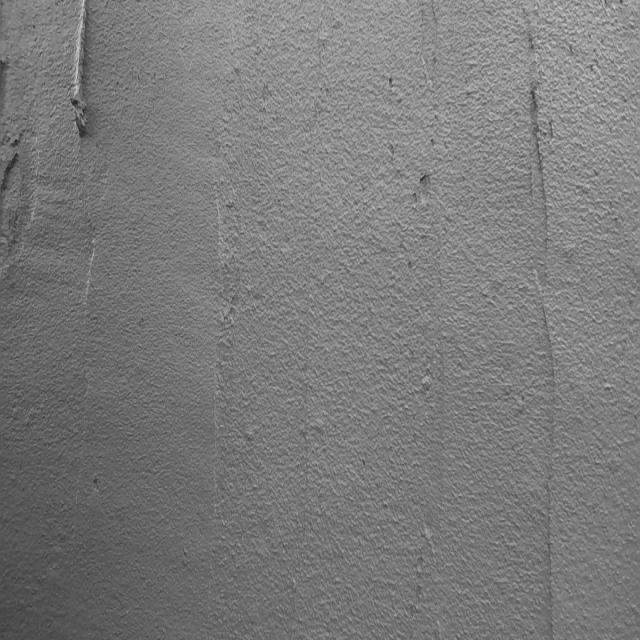trowels marks: (530, 36, 568, 640), (65, 0, 102, 141)
